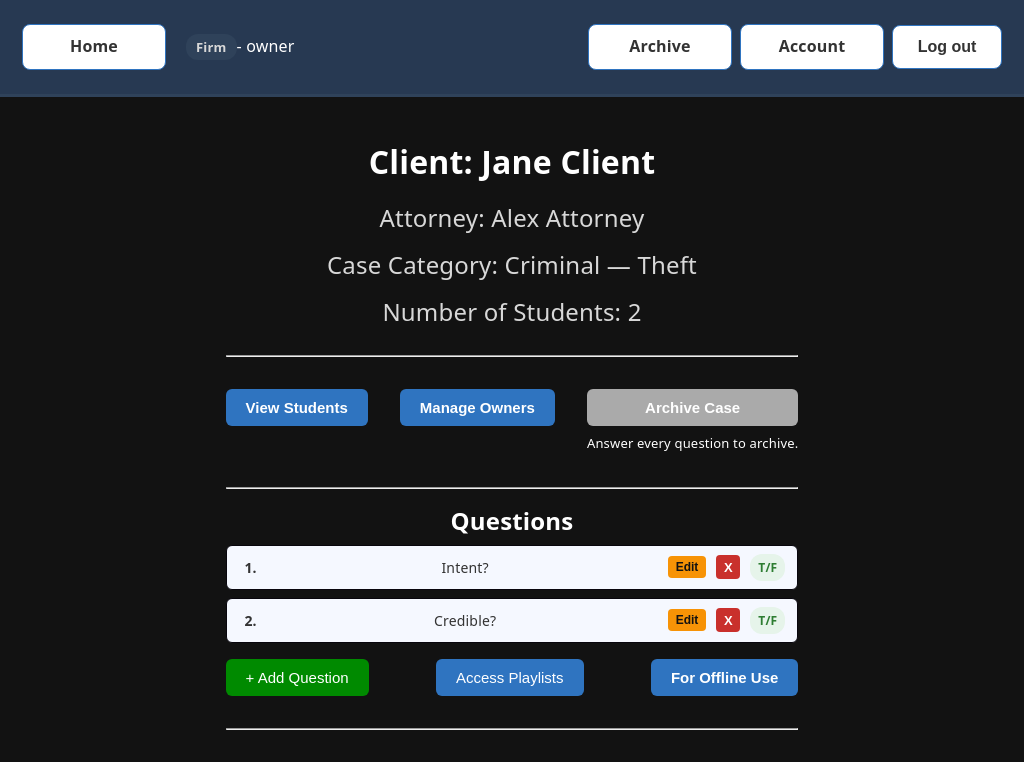
Scenario: CaseScreen owners modal (spec 021) › lists every active user on a case without an attorneyId
Click the button "Manage Owners" at (477, 408), box [400,389,555,426]
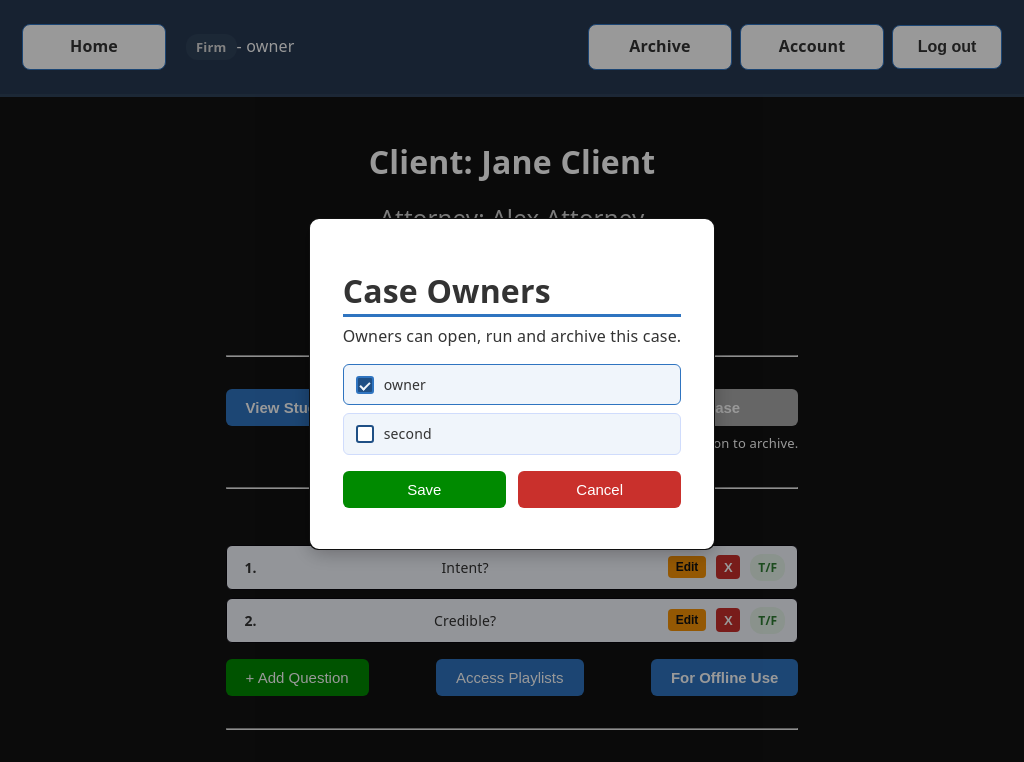
Now the checkbox labelled "owner" is checked, box [356,376,374,394]
Now the checkbox labelled "second" is not checked, box [356,425,374,443]
